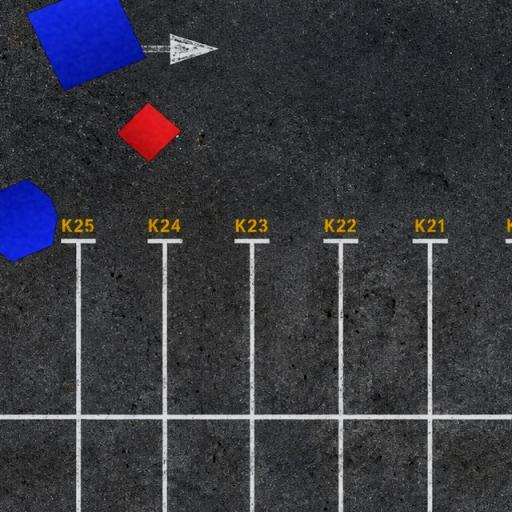BLUE_SQUARE: (26, 0, 147, 91)
RED_SQUARE: (116, 102, 182, 163)
